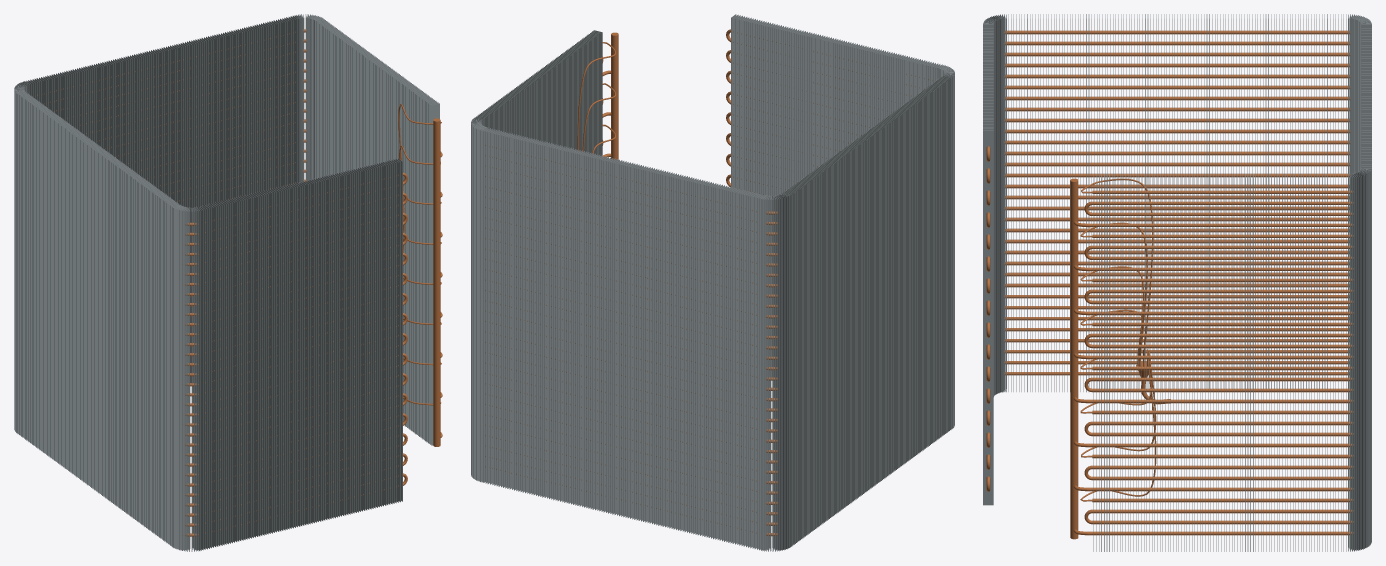
3 renders of one model, left to right at view 1: azimuth 30°, elevation 25°; view 2: azimuth 150°, elevation 25°; view 3: azimuth 270°, elevation 25°, orthographic. The views are drawn at different scales.
Visible parts, largest first — view 1: suction-header, heat-exchanger-fins-502, heat-exchanger-fins-58, heat-exchanger-fins-68, heat-exchanger-fins-4, heat-exchanger-fins-15, heat-exchanger-fins-17, heat-exchanger-fins-27, heat-exchanger-fins-35, heat-exchanger-fins-37, heat-exchanger-fins-45, heat-exchanger-fins-56 (+236 smaller); view 2: heat-exchanger-fins-273, heat-exchanger-fins-289, heat-exchanger-fins-276, heat-exchanger-fins-292, heat-exchanger-fins-296, heat-exchanger-fins-305, heat-exchanger-fins-319, heat-exchanger-fins-332, heat-exchanger-fins-339, heat-exchanger-fins-375, heat-exchanger-fins-382, heat-exchanger-fins-265 (+264 smaller); view 3: coil-circuit.010, coil-circuit.011, coil-circuit.009, coil-circuit.007, coil-circuit.008, coil-circuit.005, coil-circuit.006, coil-circuit.004, coil-circuit.012, coil-circuit.013, coil-circuit.014, coil-circuit.015 (+36 smaller).
Boxes of the visible parts, x1,y1,x2,y2 form: suction-header: (433,118,440,446); heat-exchanger-fins-502: (431,103,439,445); heat-exchanger-fins-58: (276,187,281,531); heat-exchanger-fins-68: (255,192,260,536); heat-exchanger-fins-4: (389,160,394,503); heat-exchanger-fins-15: (366,165,371,509); heat-exchanger-fins-17: (362,167,367,510); heat-exchanger-fins-27: (341,172,346,515); heat-exchanger-fins-35: (324,176,329,519); heat-exchanger-fins-37: (320,177,325,520); heat-exchanger-fins-45: (303,181,308,524); heat-exchanger-fins-56: (280,186,285,530); heat-exchanger-fins-273: (732,188,738,543); heat-exchanger-fins-289: (697,180,703,535); heat-exchanger-fins-276: (726,186,731,542); heat-exchanger-fins-292: (691,178,696,533); heat-exchanger-fins-296: (682,176,687,531); heat-exchanger-fins-305: (662,171,668,526); heat-exchanger-fins-319: (632,163,637,519); heat-exchanger-fins-332: (603,157,608,512); heat-exchanger-fins-339: (588,153,593,508); heat-exchanger-fins-375: (509,134,514,489); heat-exchanger-fins-382: (494,130,499,485); heat-exchanger-fins-265: (750,192,755,548); coil-circuit.010: (986,140,1353,315); coil-circuit.011: (986,118,1353,293); coil-circuit.009: (986,162,1353,337); coil-circuit.007: (986,206,1353,381); coil-circuit.008: (986,184,1353,359); coil-circuit.005: (986,250,1353,425); coil-circuit.006: (986,228,1353,403); coil-circuit.004: (986,272,1353,447); coil-circuit.012: (986,96,1353,270); coil-circuit.013: (986,74,1353,248); coil-circuit.014: (986,52,1353,226); coil-circuit.015: (986,30,1353,204).
Size of the model in its own units: 0.868 by 0.92 by 0.868.
